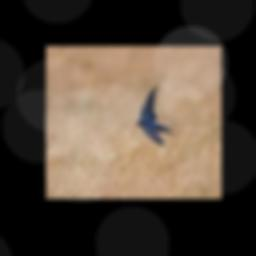Swallow: (136, 85, 178, 144)
